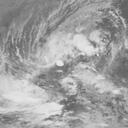cyclone: (31, 24, 108, 96)
